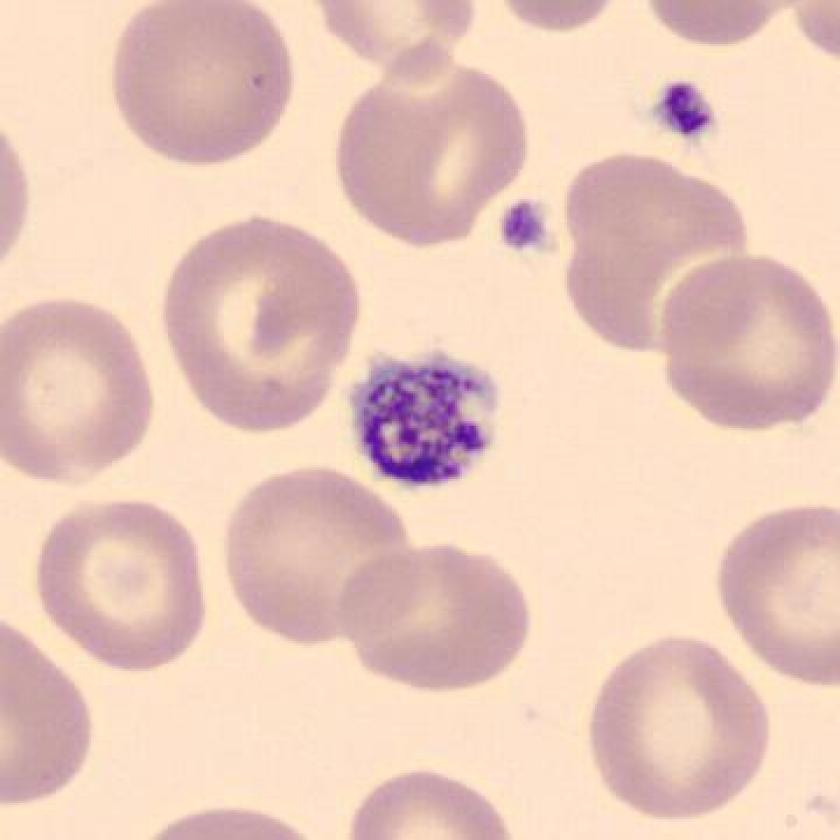platelets: (339, 337, 512, 492), (486, 189, 575, 270), (641, 70, 732, 147)
